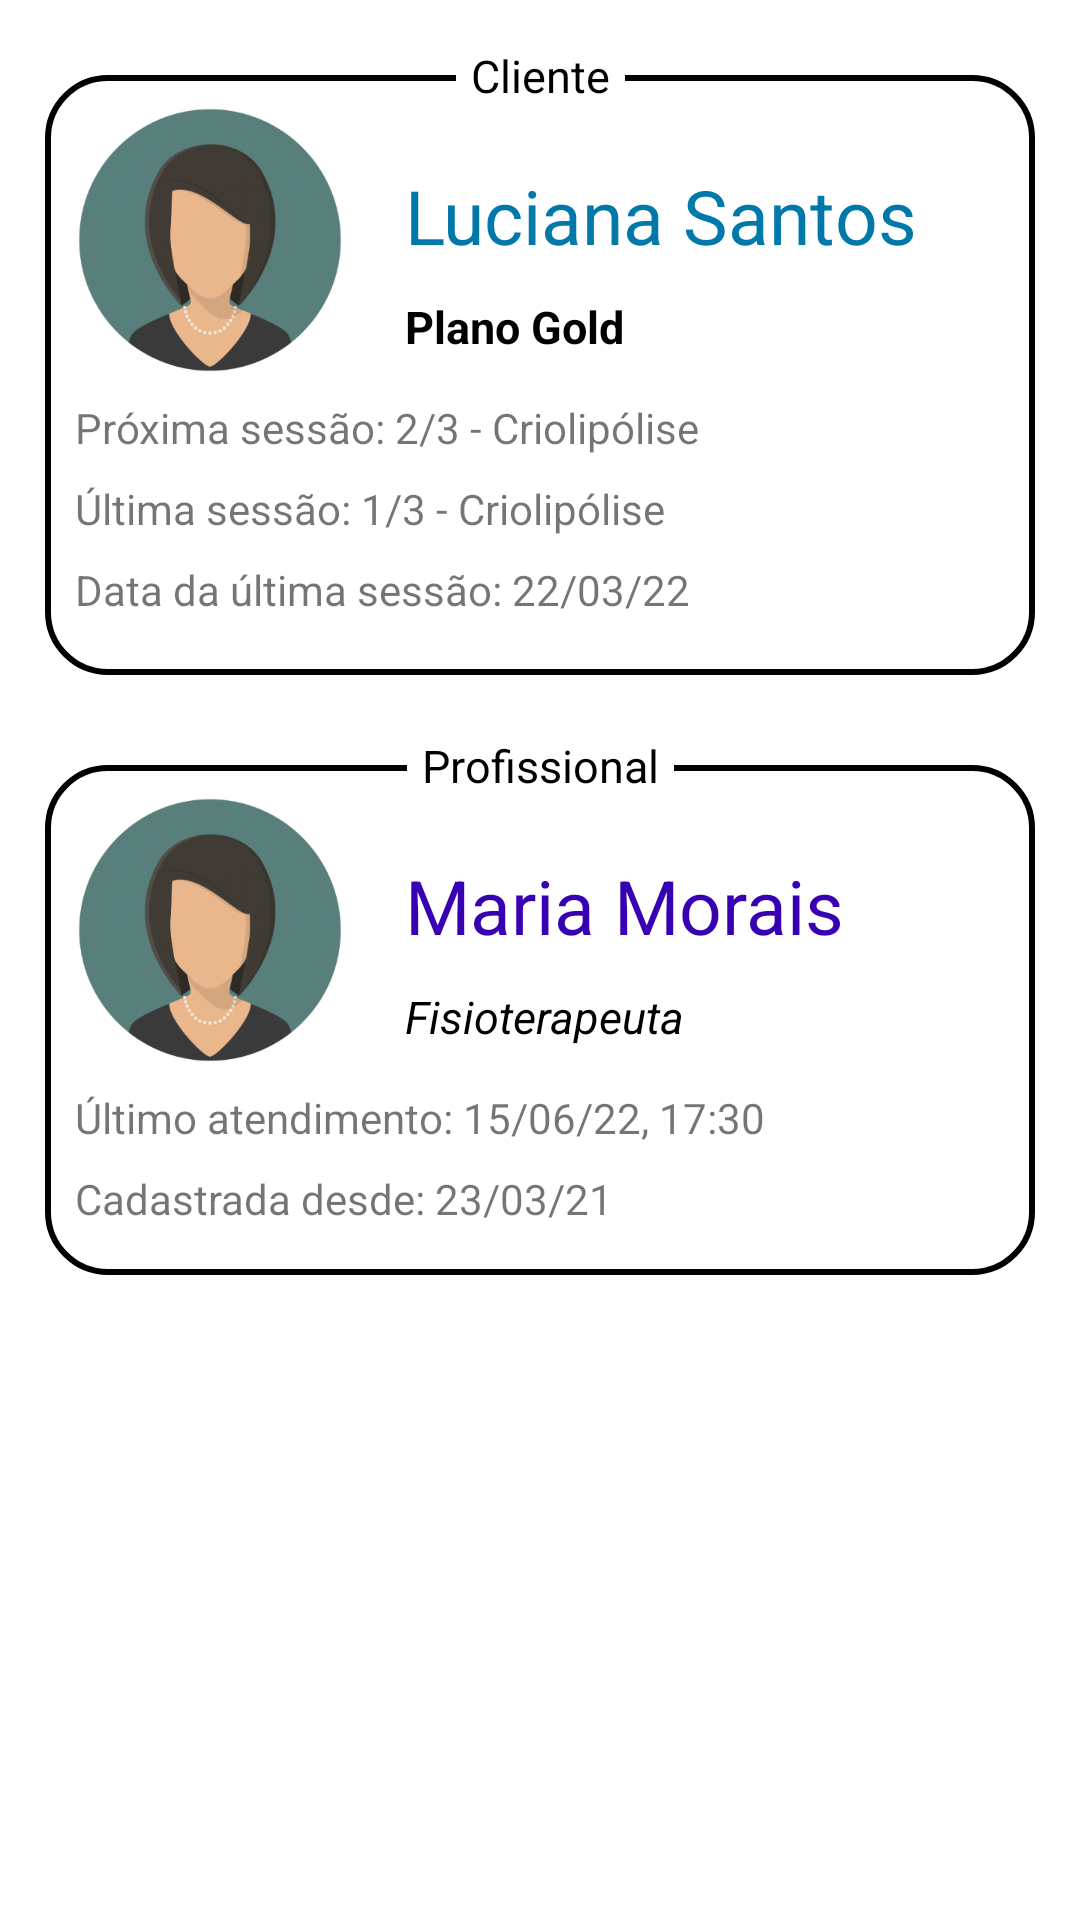

Where icons sit on this 1080px x 1920px app screen, as (x1, y1, x2, y2):
face: (79, 109, 341, 371), (79, 799, 341, 1061)
